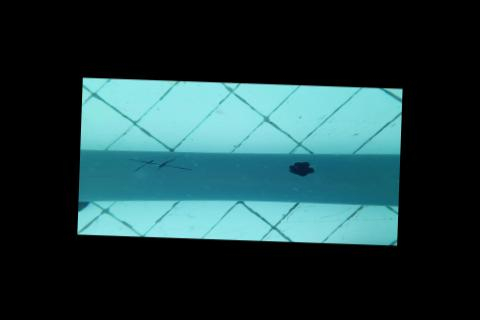kebocoran: (287, 158, 318, 177)
keretakan: (129, 153, 194, 174)
